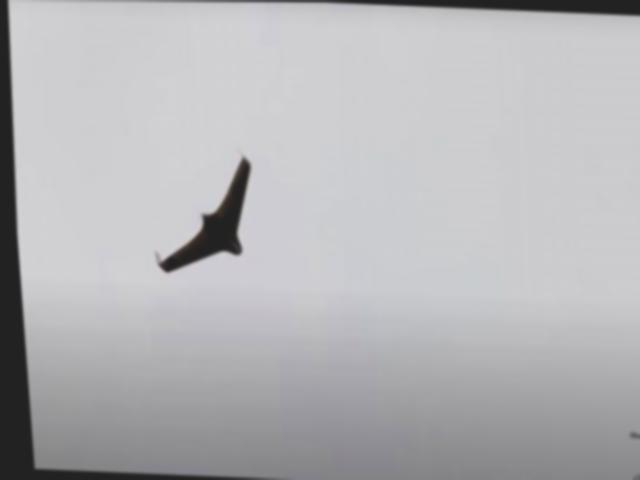iha: (141, 143, 260, 279)
